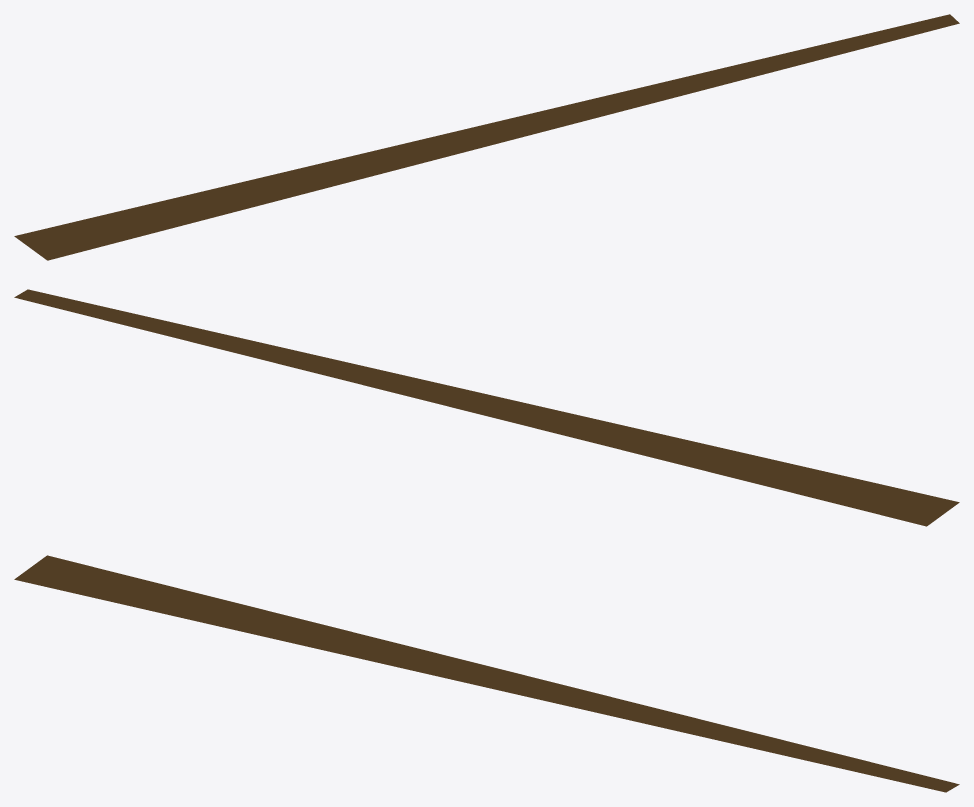
Rendered from удочка а.fbx.
3 views of the same model, one above another, from view 1: azimuth 30°, elevation 25°; view 2: azimuth 150°, elevation 25°; view 3: azimuth 330°, elevation 25° (orthographic).
Parts seen in each view (by area): view 1: S1; view 2: S1; view 3: S1.
Boxes of the visible parts, left/top/right/bottom form: S1: left=14, top=14, right=959, bottom=260; S1: left=14, top=289, right=959, bottom=526; S1: left=14, top=555, right=959, bottom=792.
Size of the model in its own units: 598 by 6.08e-06 by 37.35.
